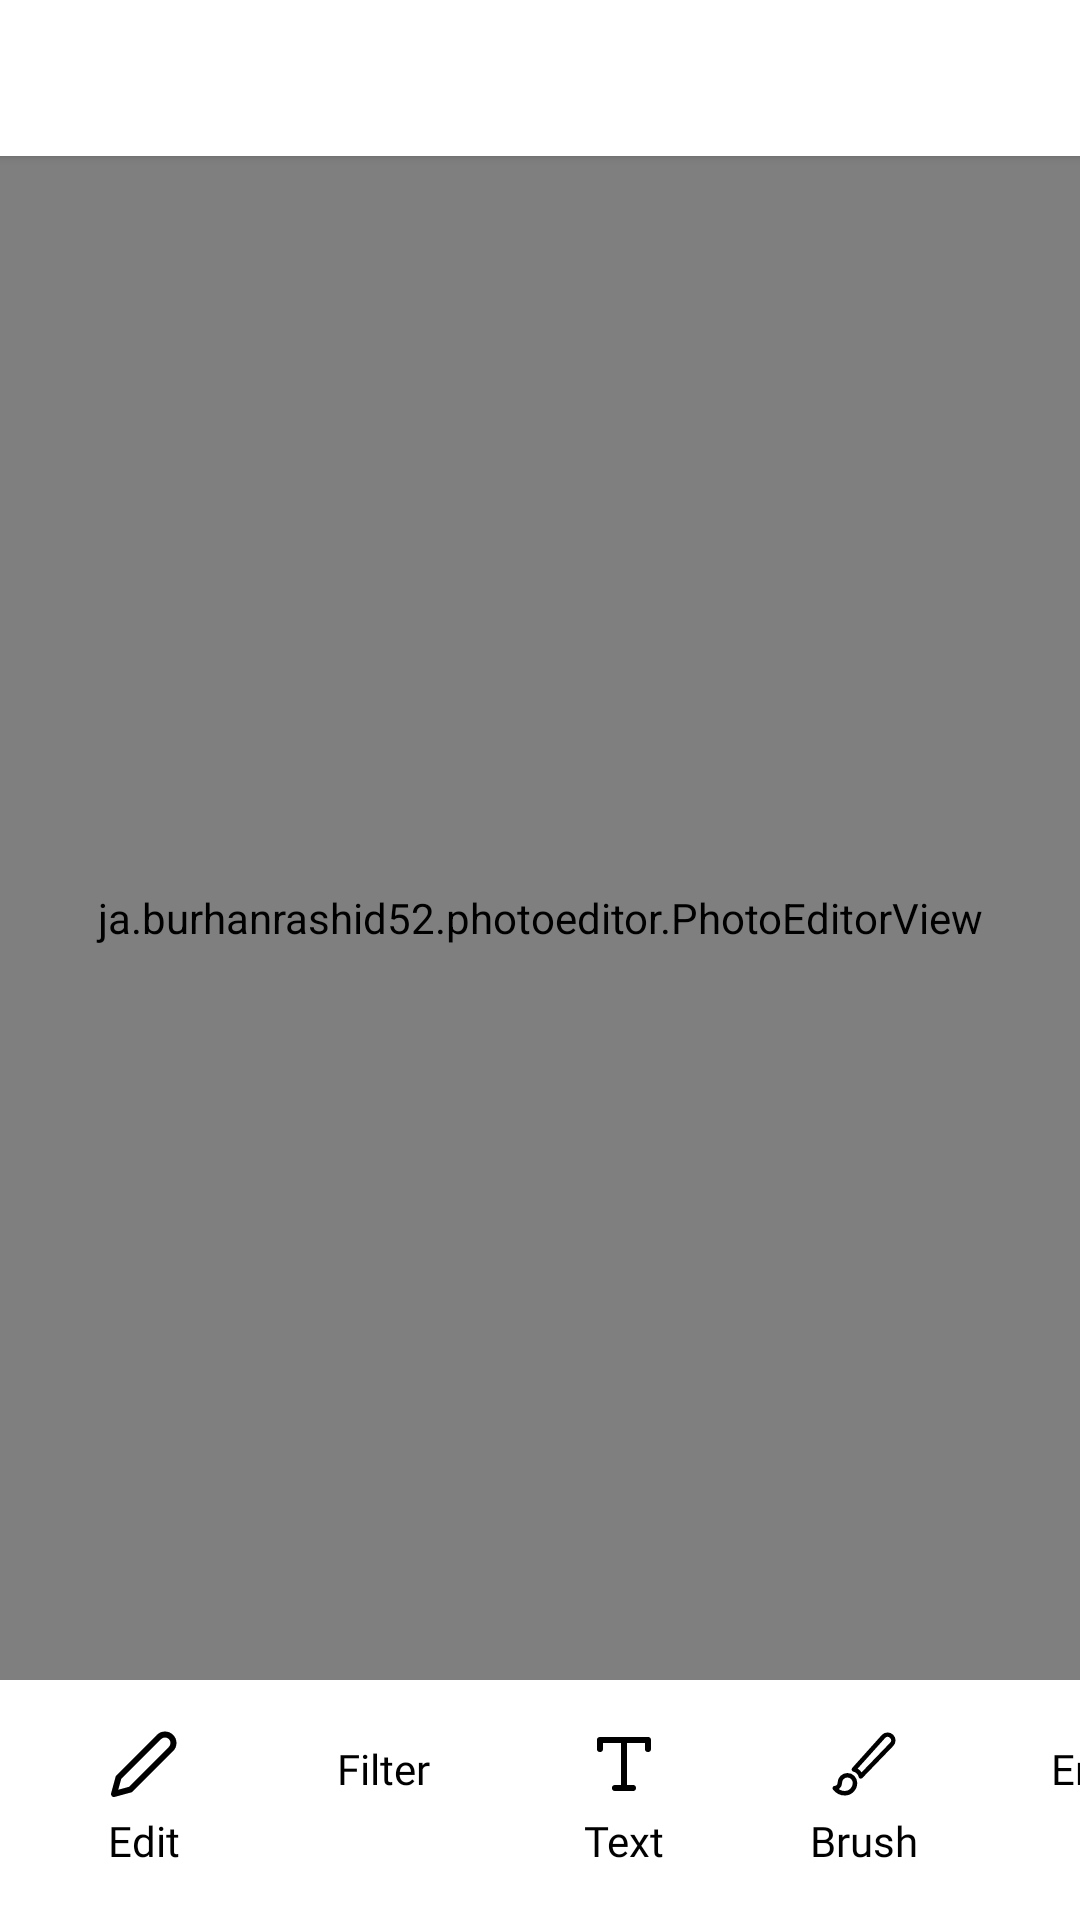

Locate icon controls on the screen. Image size 1080px×1920px, boxes as region(x1, y1, x2, y2).
type: region(597, 1737, 651, 1791)
